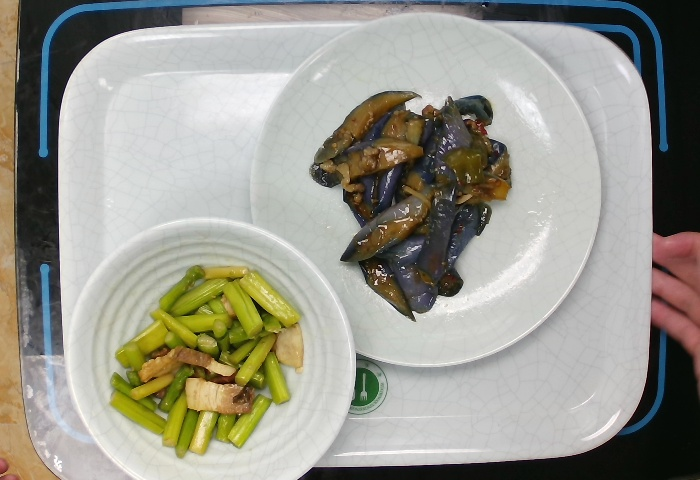JYsf-Da_Yuan_Pan: (248, 4, 606, 371)
JYsf-Xiao_Tang_Wan: (59, 209, 360, 480)
